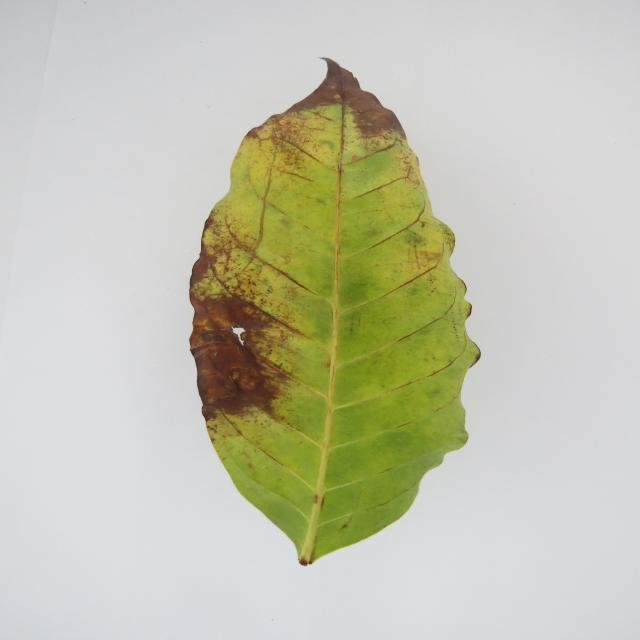DeficienciaNutricional-Potasio: (190, 59, 480, 565)
